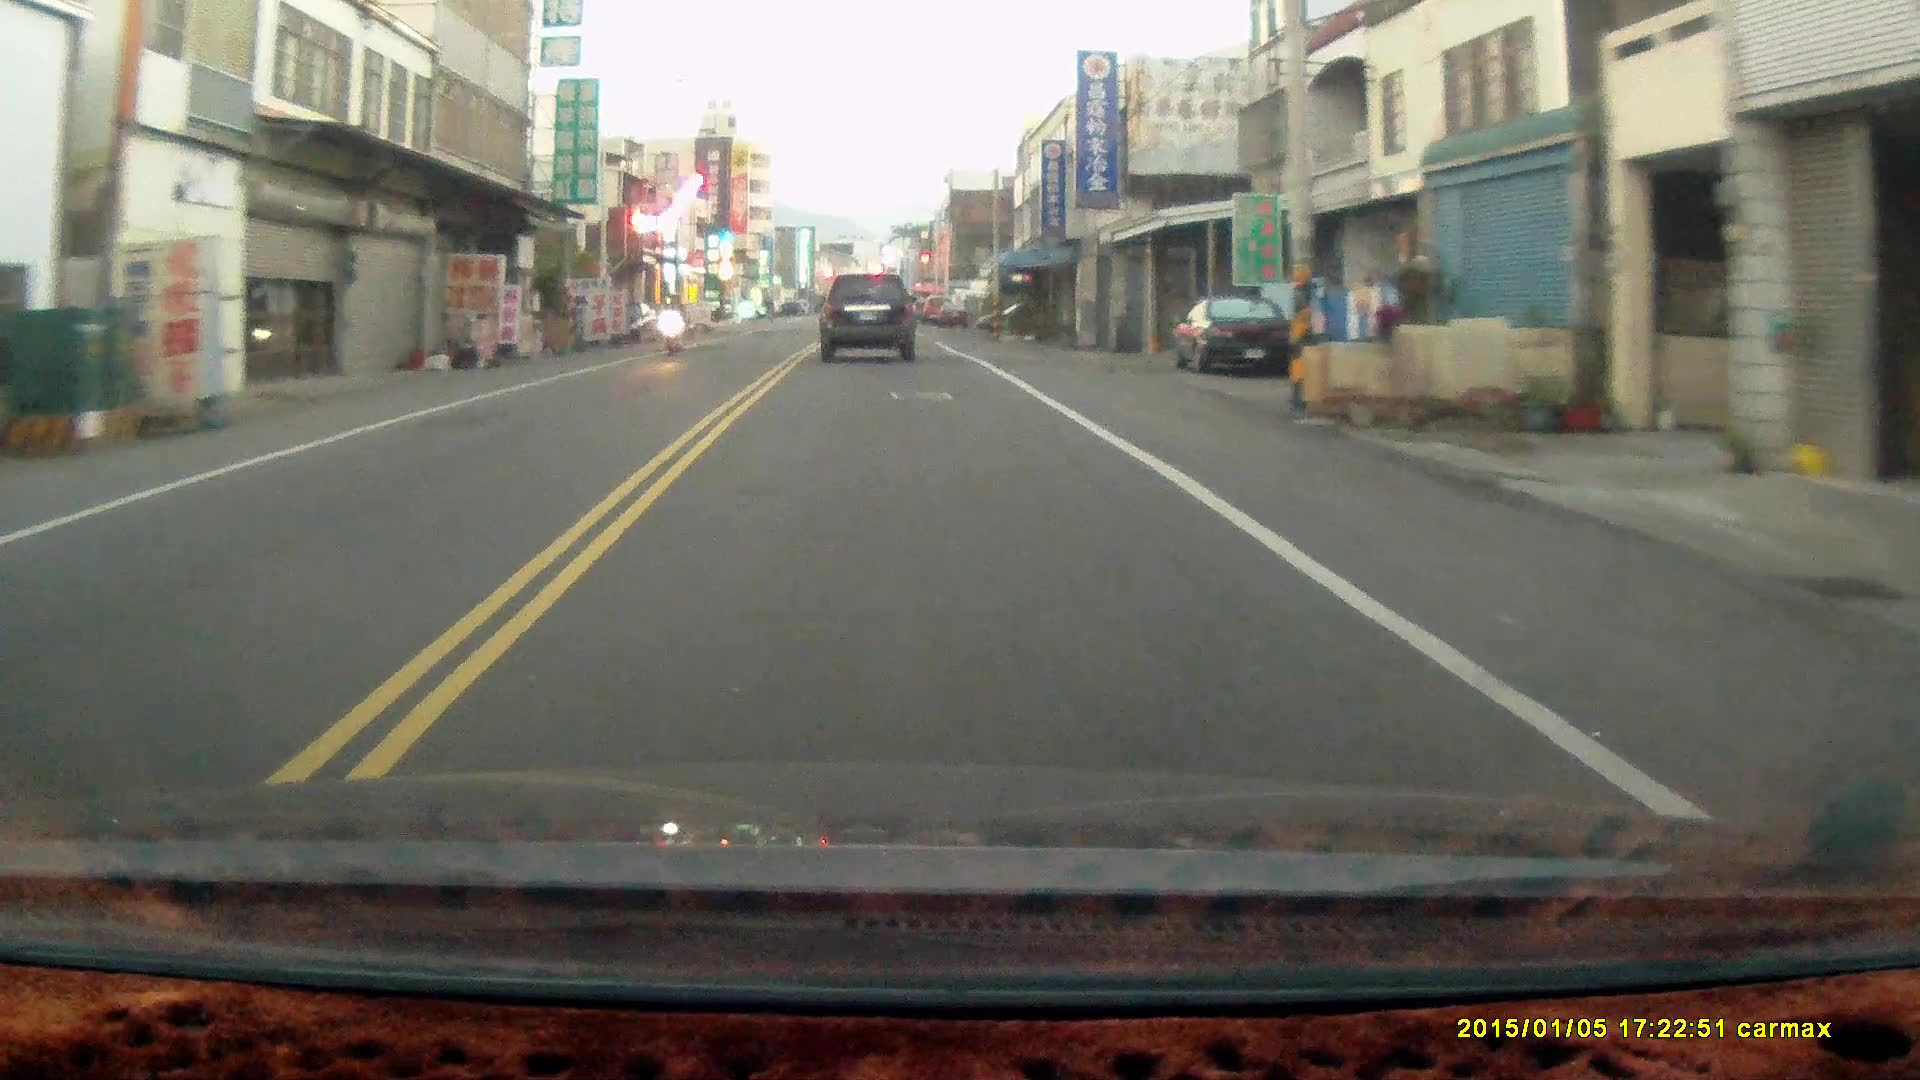rider: (659, 291, 686, 354)
vehicle: (1175, 298, 1302, 380), (821, 274, 920, 364)
